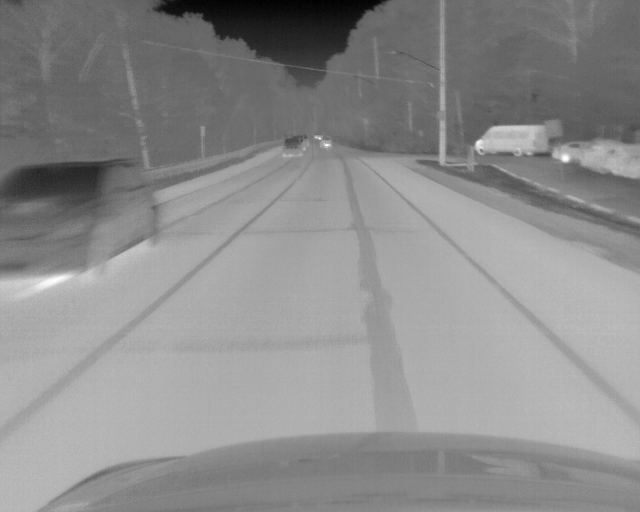car: (1, 158, 164, 276), (473, 123, 546, 157), (580, 138, 613, 174), (615, 142, 640, 178), (549, 140, 581, 166), (281, 137, 303, 157), (318, 136, 333, 151)
